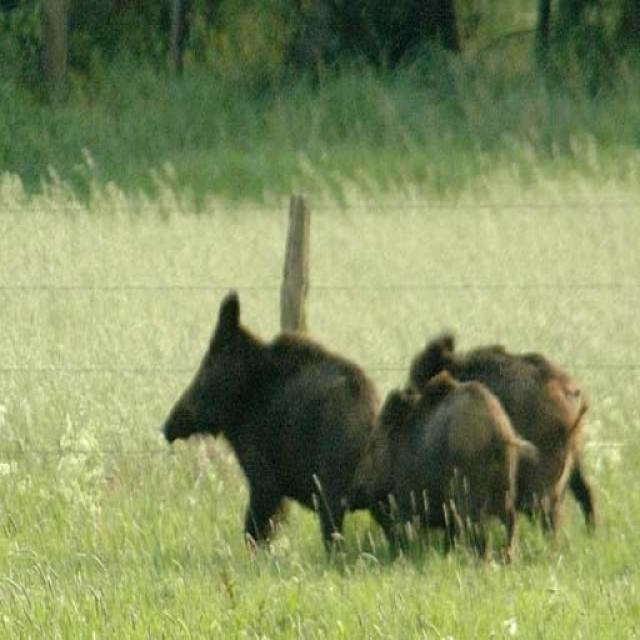pig: (134, 275, 380, 541), (410, 320, 608, 505), (356, 373, 531, 532)
